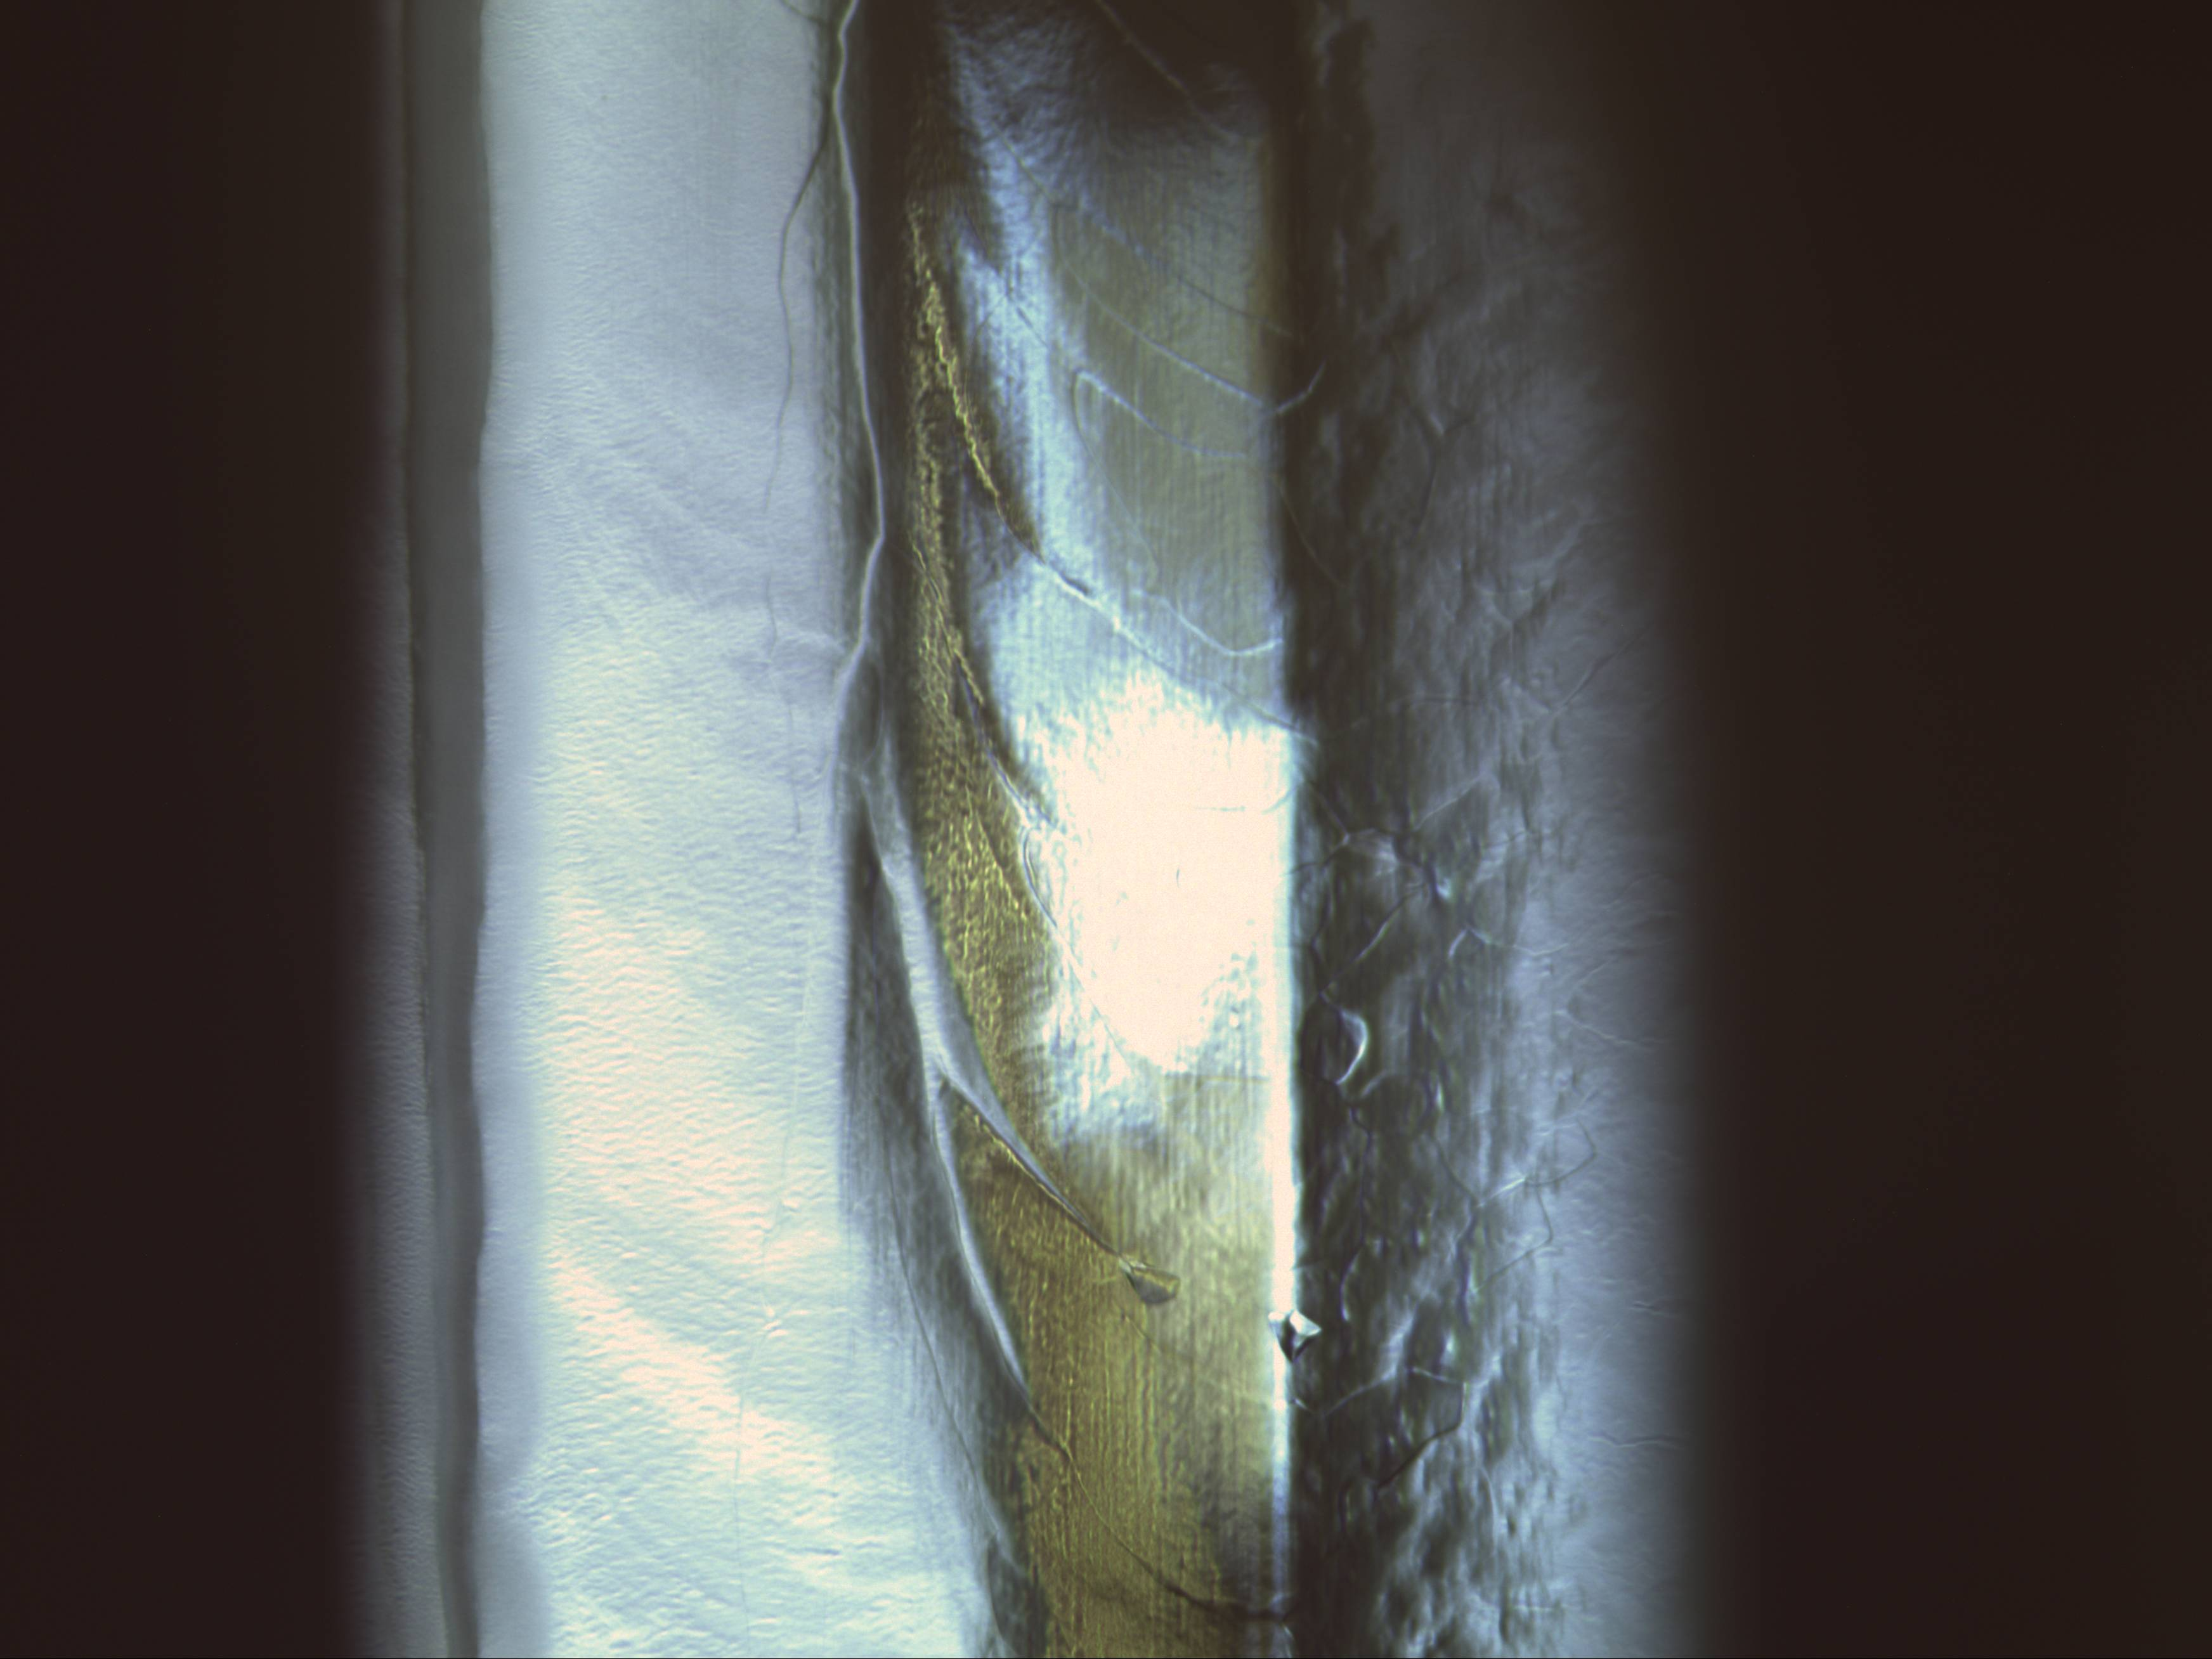defect: (1264, 1305, 1322, 1358)
